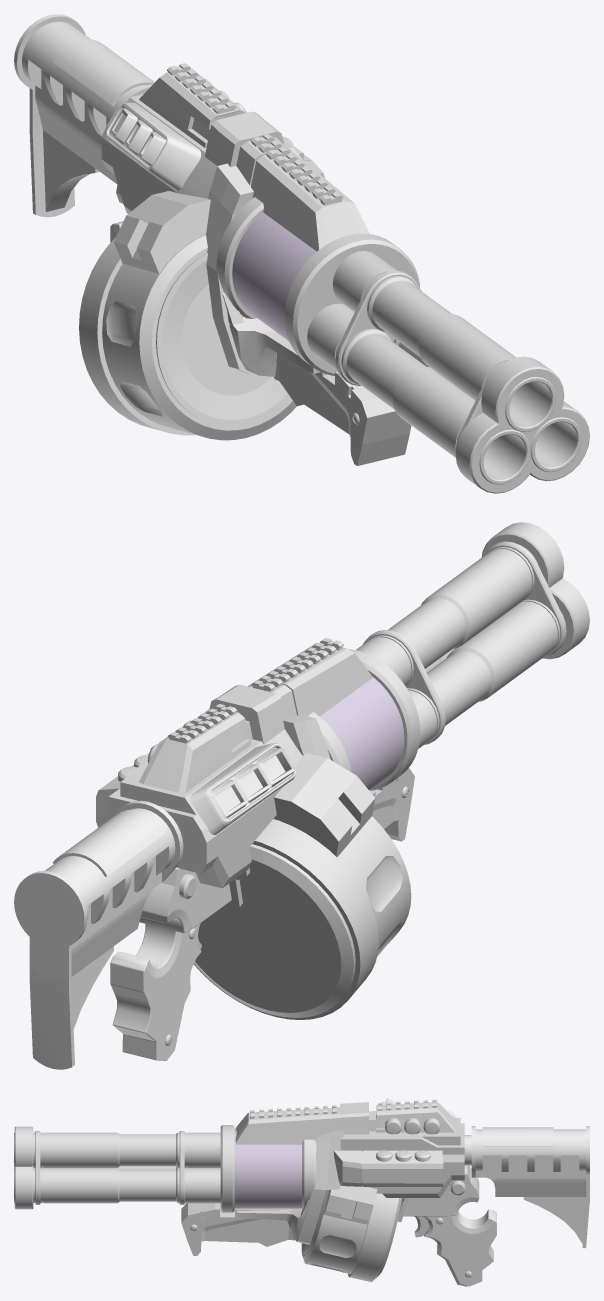
The model's file is Weapon_Deliverance._TEMPfbx.fbx.
3 renders of one model, top to bottom at view 1: azimuth 30°, elevation 25°; view 2: azimuth 150°, elevation 25°; view 3: azimuth 270°, elevation 25°, orthographic. The views are drawn at different scales.
Parts seen in each view (by area): view 1: GatlingRifle_Barrel, GatlingRifle_EnergyCell, GatlingRifle_Stock, GatlingRifle_Foregrip, Reciever.002, Reciever.001, GatlingRifle_EnergyCell.001, Vents, GatlingRifle_EnergyCell.005, Reciever, Rails, GatlingRifle_Foregrip.001; view 2: GatlingRifle_Barrel, GatlingRifle_EnergyCell, GatlingRifle_Stock, GatlingRifle_Grip, Reciever, Reciever.002, GatlingRifle_EnergyCell.001, Vents, Reciever.001, Rails, GatlingRifle_Foregrip, GatlingRifle_EnergyCell.005; view 3: GatlingRifle_Barrel, GatlingRifle_Stock, GatlingRifle_Grip, GatlingRifle_EnergyCell, Reciever, GatlingRifle_Foregrip, Reciever.005, Reciever.002, Reciever.001, GatlingRifle_EnergyCell.005, GatlingRifle_EnergyCell.002, GatlingRifle_Foregrip.001 (+3 smaller).
Boxes of the visible parts, x1=… form: GatlingRifle_Barrel: x1=216, y1=197, x2=589, y2=493; GatlingRifle_EnergyCell: x1=79, y1=234, x2=296, y2=440; GatlingRifle_Stock: x1=14, y1=14, x2=154, y2=217; GatlingRifle_Foregrip: x1=274, y1=353, x2=411, y2=465; Reciever.002: x1=139, y1=69, x2=291, y2=185; Reciever.001: x1=251, y1=151, x2=369, y2=251; GatlingRifle_EnergyCell.001: x1=114, y1=191, x2=210, y2=273; Vents: x1=105, y1=102, x2=200, y2=190; GatlingRifle_EnergyCell.005: x1=205, y1=147, x2=303, y2=375; Reciever: x1=101, y1=94, x2=303, y2=213; Rails: x1=167, y1=63, x2=343, y2=205; GatlingRifle_Foregrip.001: x1=222, y1=293, x2=320, y2=376; GatlingRifle_Barrel: x1=308, y1=522, x2=589, y2=790; GatlingRifle_EnergyCell: x1=193, y1=816, x2=411, y2=1019; GatlingRifle_Stock: x1=14, y1=800, x2=183, y2=1069; GatlingRifle_Grip: x1=110, y1=867, x2=231, y2=1060; Reciever: x1=103, y1=708, x2=302, y2=888; Reciever.002: x1=139, y1=682, x2=296, y2=793; GatlingRifle_EnergyCell.001: x1=273, y1=752, x2=375, y2=857; Vents: x1=190, y1=743, x2=295, y2=834; Reciever.001: x1=256, y1=643, x2=371, y2=716; Rails: x1=167, y1=638, x2=343, y2=743; GatlingRifle_Foregrip: x1=372, y1=768, x2=414, y2=841; GatlingRifle_EnergyCell.005: x1=283, y1=715, x2=330, y2=759; GatlingRifle_Barrel: x1=14, y1=1125, x2=316, y2=1212; GatlingRifle_Stock: x1=464, y1=1126, x2=589, y2=1248; GatlingRifle_Grip: x1=403, y1=1165, x2=496, y2=1286; GatlingRifle_EnergyCell: x1=301, y1=1190, x2=402, y2=1282; Reciever: x1=340, y1=1118, x2=464, y2=1197; GatlingRifle_Foregrip: x1=181, y1=1202, x2=291, y2=1255; Reciever.005: x1=333, y1=1150, x2=443, y2=1186; Reciever.002: x1=320, y1=1102, x2=456, y2=1135; Reciever.001: x1=235, y1=1108, x2=320, y2=1144; GatlingRifle_EnergyCell.005: x1=296, y1=1130, x2=343, y2=1244; GatlingRifle_EnergyCell.002: x1=323, y1=1185, x2=377, y2=1224; GatlingRifle_Foregrip.001: x1=237, y1=1200, x2=309, y2=1240.
Size of the model in its own units: 0.3393 by 0.468 by 1.31.
